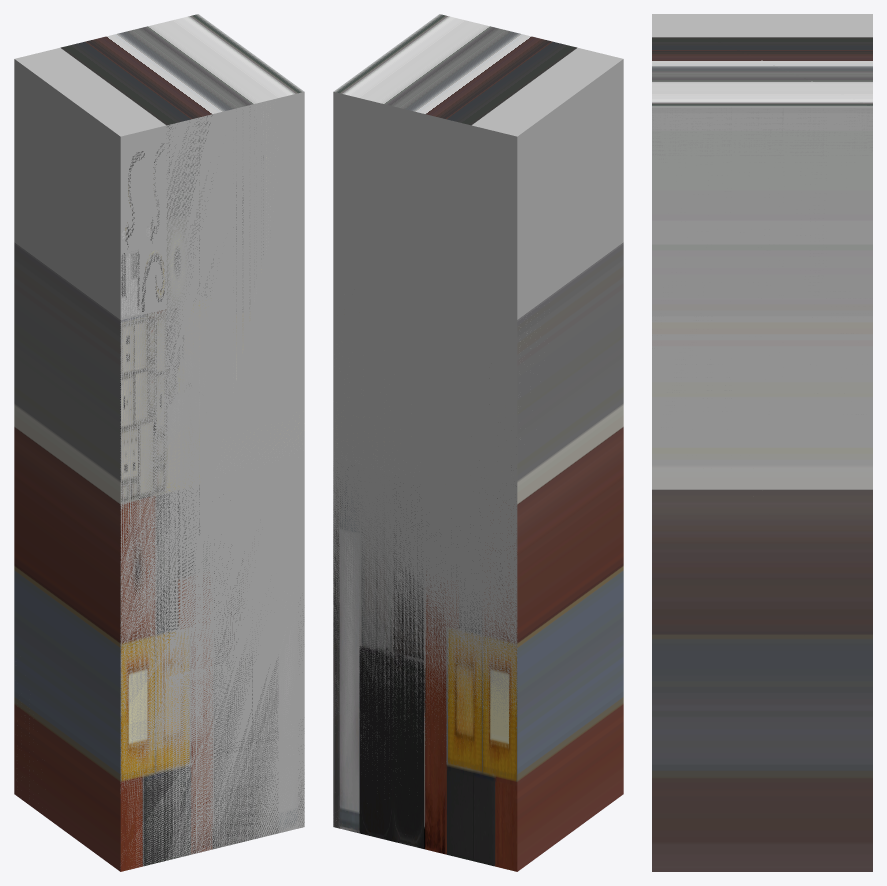
The model's file is floor_lamp.DAE.
The picture shows the model from 3 angles, left to right: view 1: azimuth 30°, elevation 25°; view 2: azimuth 150°, elevation 25°; view 3: azimuth 270°, elevation 25°; orthographic projection. The views are drawn at different scales.
Visible parts, largest first — view 1: bounds, colbox-1; view 2: bounds, colbox-1; view 3: colbox-1, bounds.
Boxes of the visible parts, x1=… form: bounds: x1=14, y1=48, x2=304, y2=866; colbox-1: x1=14, y1=14, x2=304, y2=871; bounds: x1=333, y1=48, x2=623, y2=827; colbox-1: x1=333, y1=14, x2=623, y2=871; colbox-1: x1=652, y1=37, x2=872, y2=871; bounds: x1=652, y1=14, x2=872, y2=427.
Size of the model in its own units: 51.2 by 51.2 by 196.
